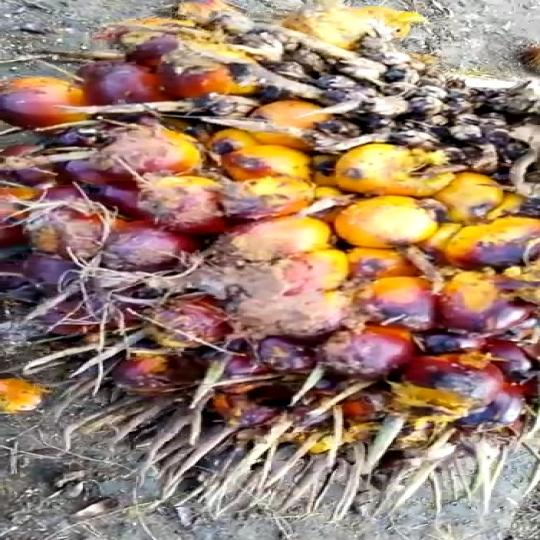masak: (0, 19, 540, 500)
